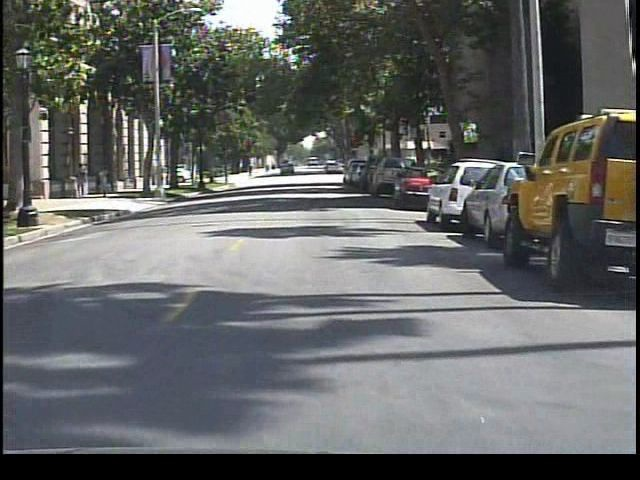person: (95, 162, 118, 199), (72, 160, 92, 202)
